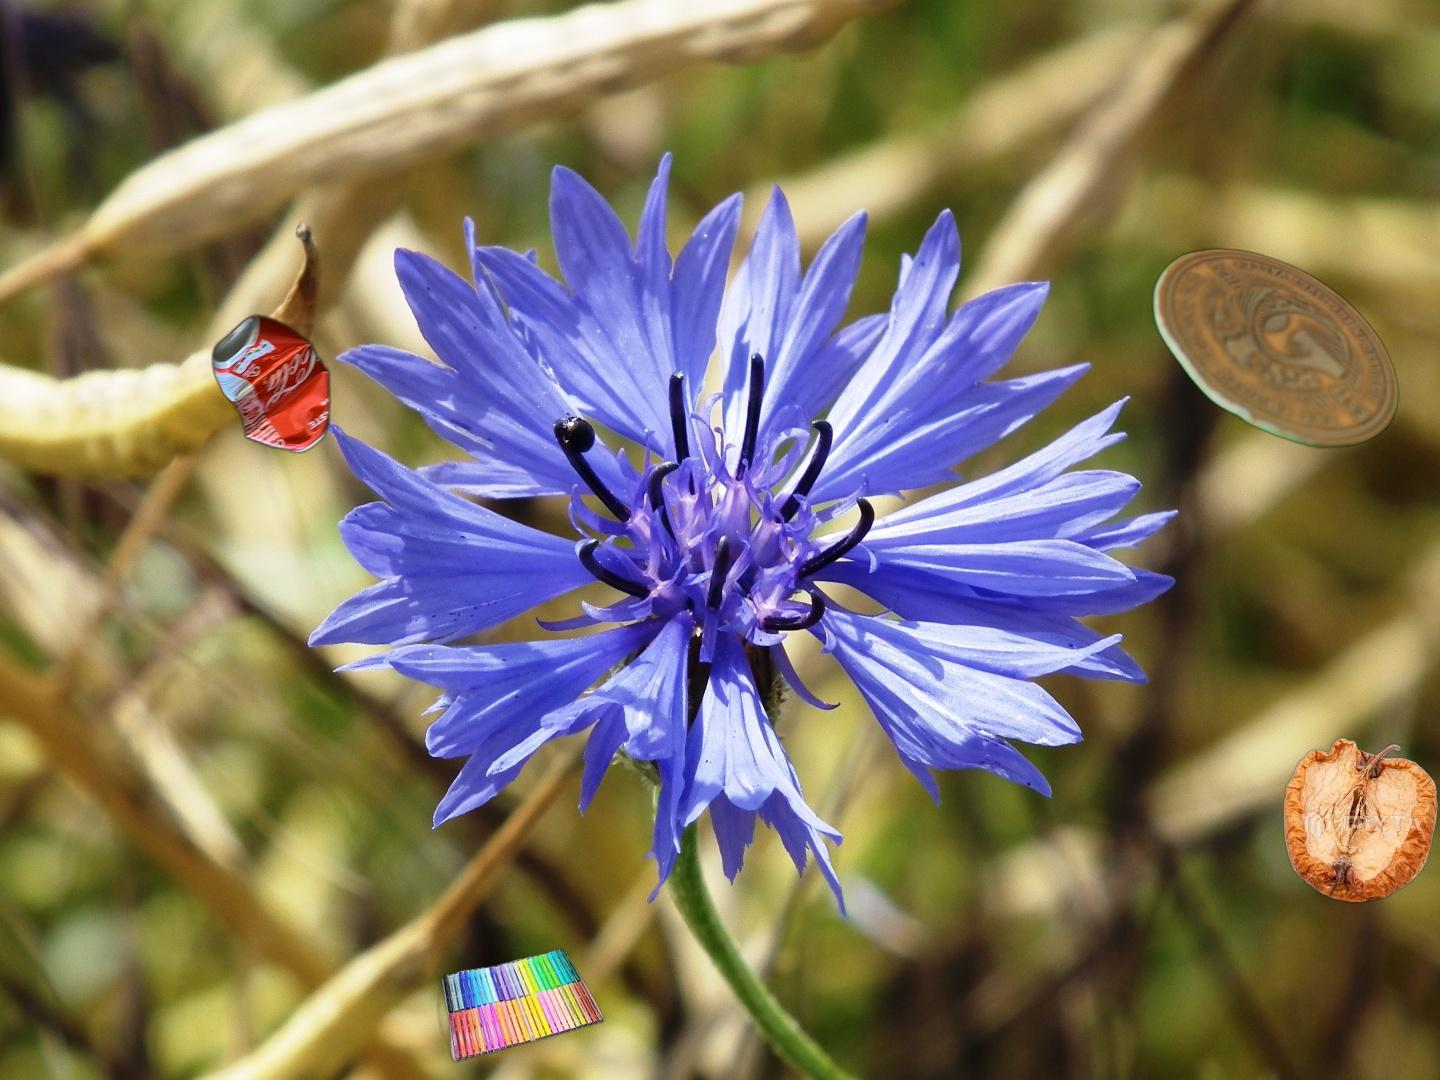biological: (1280, 734, 1440, 906)
glass: (1147, 245, 1403, 452)
metal-cans: (207, 309, 334, 459)
penholder: (435, 946, 610, 1064)
